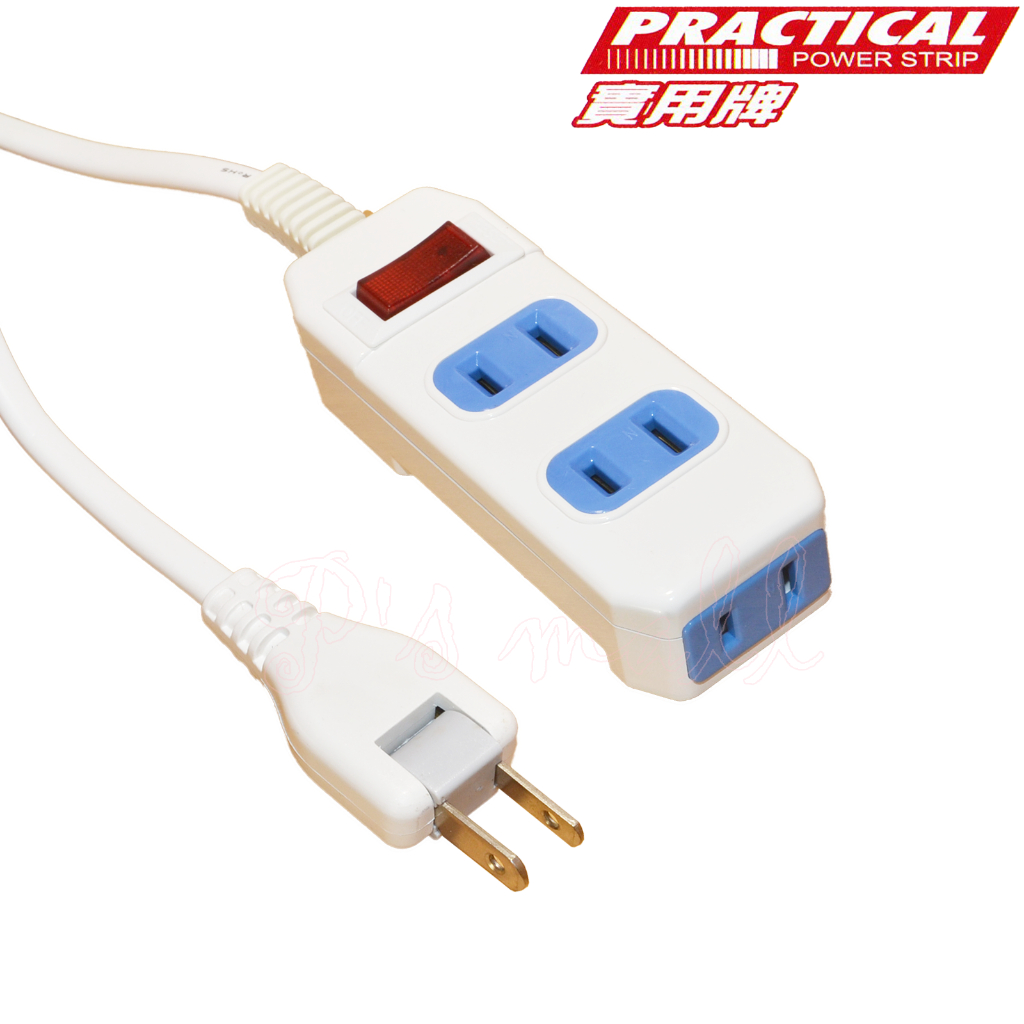socket: (246, 161, 834, 704)
